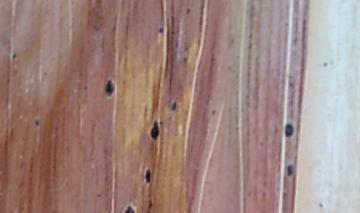tarspot: (149, 121, 160, 139), (104, 80, 116, 96), (285, 123, 294, 138), (144, 168, 151, 183), (123, 206, 136, 213), (287, 164, 293, 177), (147, 198, 153, 209), (170, 102, 177, 110), (210, 108, 217, 116), (33, 119, 40, 126), (11, 52, 17, 60), (186, 6, 191, 15), (84, 83, 88, 92), (96, 193, 103, 198), (183, 56, 188, 63), (158, 27, 164, 32)
